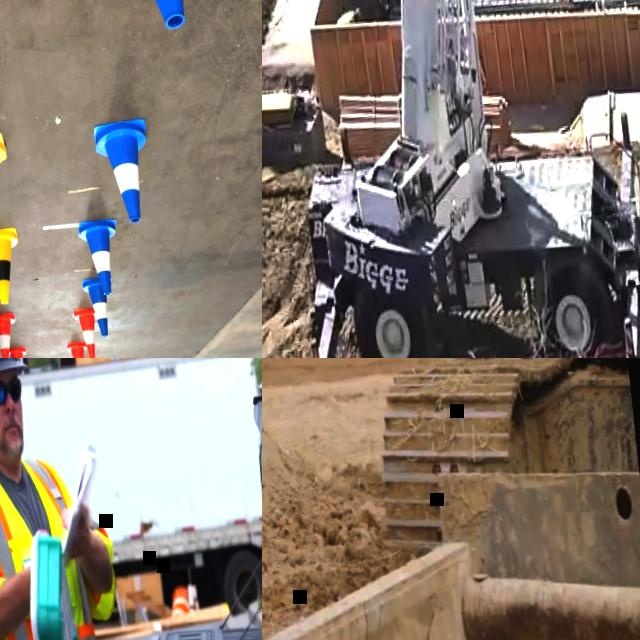NO-Mask: (0, 413, 28, 460)
Person: (0, 358, 147, 640)
Safety Cone: (89, 114, 159, 224), (78, 216, 126, 297), (0, 223, 25, 306), (80, 275, 112, 337), (0, 127, 17, 241), (70, 305, 99, 358), (0, 311, 20, 358), (64, 338, 88, 358), (6, 342, 30, 358)
Safety Vest: (0, 439, 138, 640)
machinery: (262, 0, 640, 358), (359, 358, 640, 561)
vehicle: (105, 358, 262, 640)
